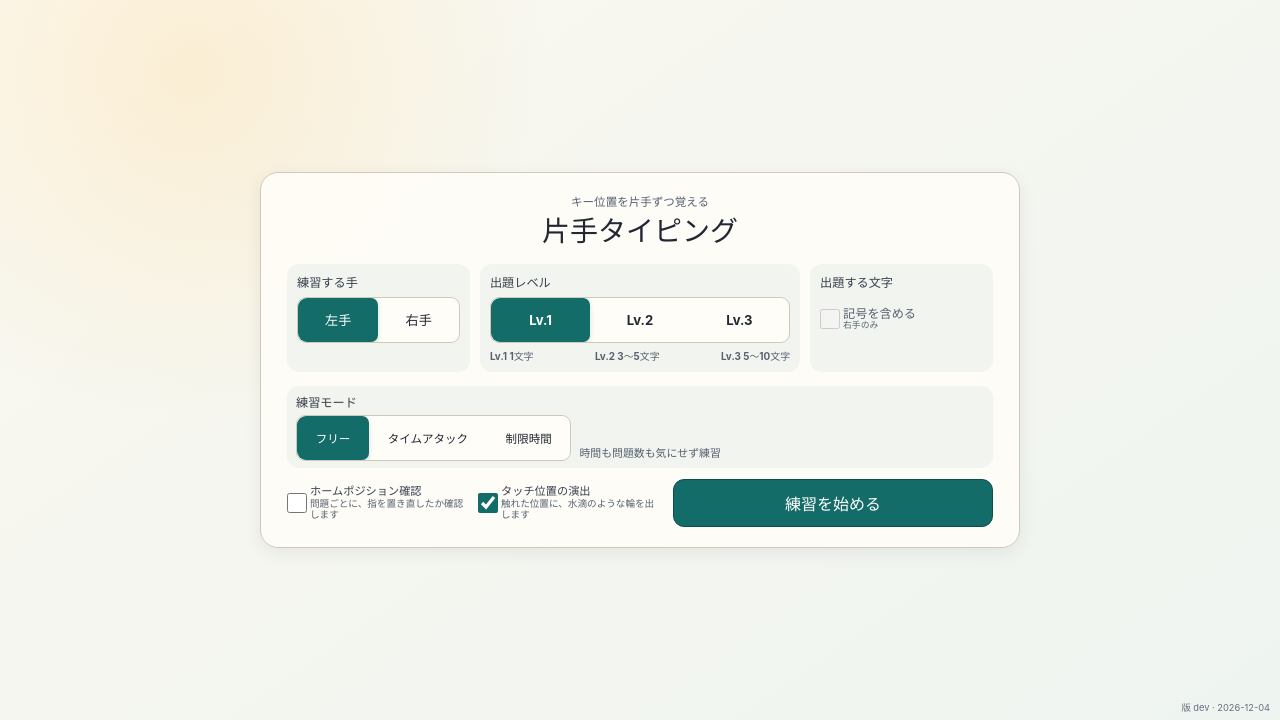
Test: 設定・練習・結果の3画面 › 設定画面へ戻って始め直すと、右上の今回の成績がゼロから始まる
The width and height of the screenshot is (1280, 720).
Step 1. Click the button with test id "start-practice" → (833, 503), box top-left (673, 479), bottom-right (993, 527)
Wait 1000 ms
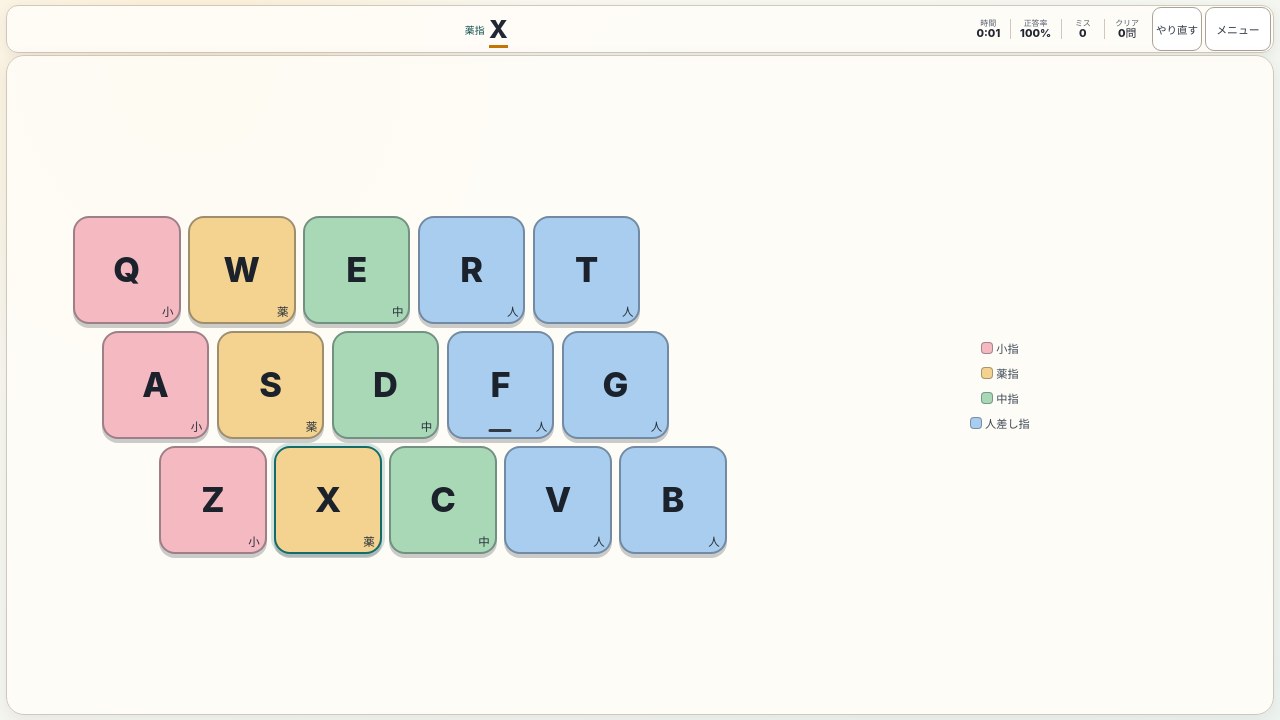
Step 2. Click the button with class "key" showing "q 小" → (127, 270), box top-left (73, 216), bottom-right (180, 324)
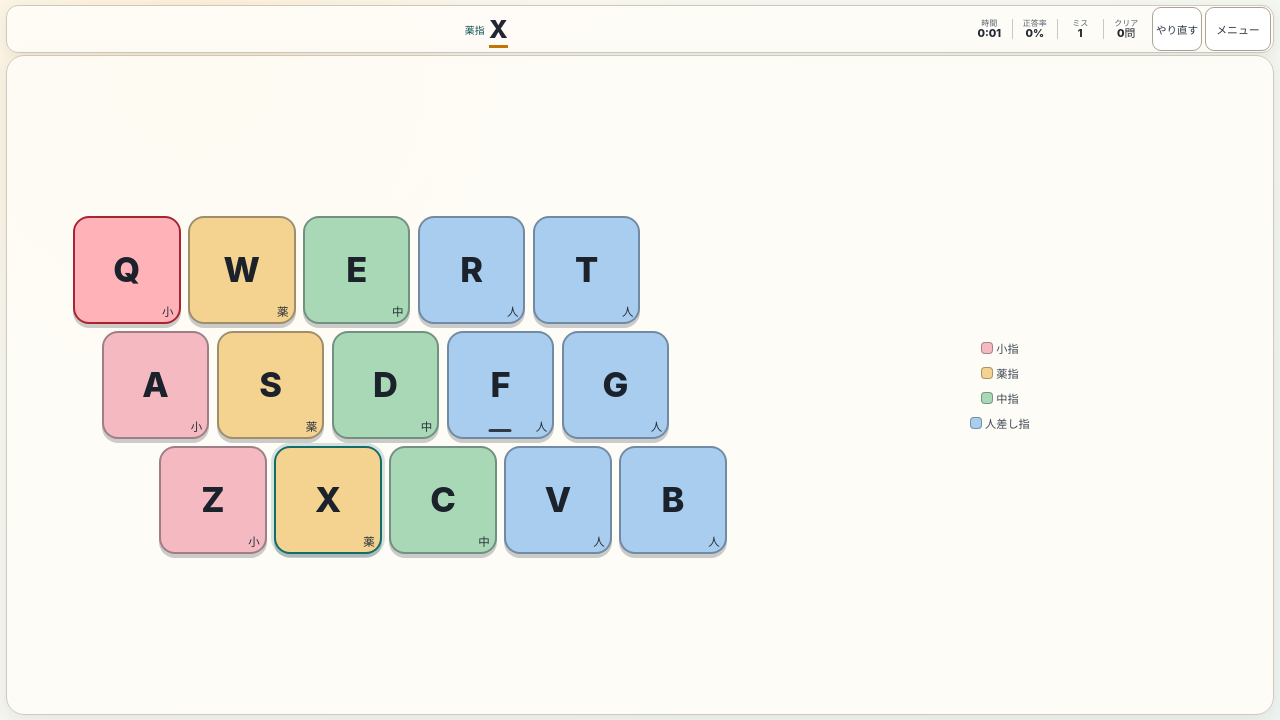
Step 3. Click the button with test id "menu-button" → (1238, 29), box top-left (1205, 7), bottom-right (1271, 51)
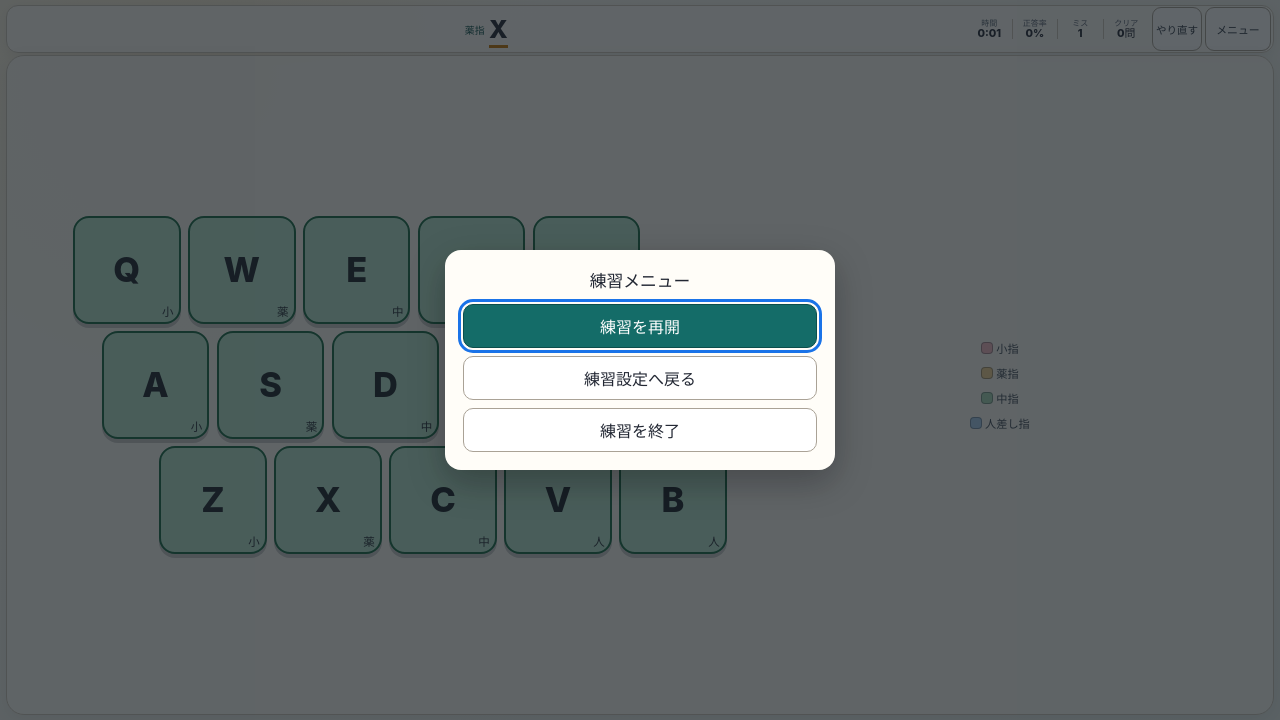
Step 4. Click the button with test id "menu-to-settings" → (640, 378), box top-left (463, 356), bottom-right (817, 400)
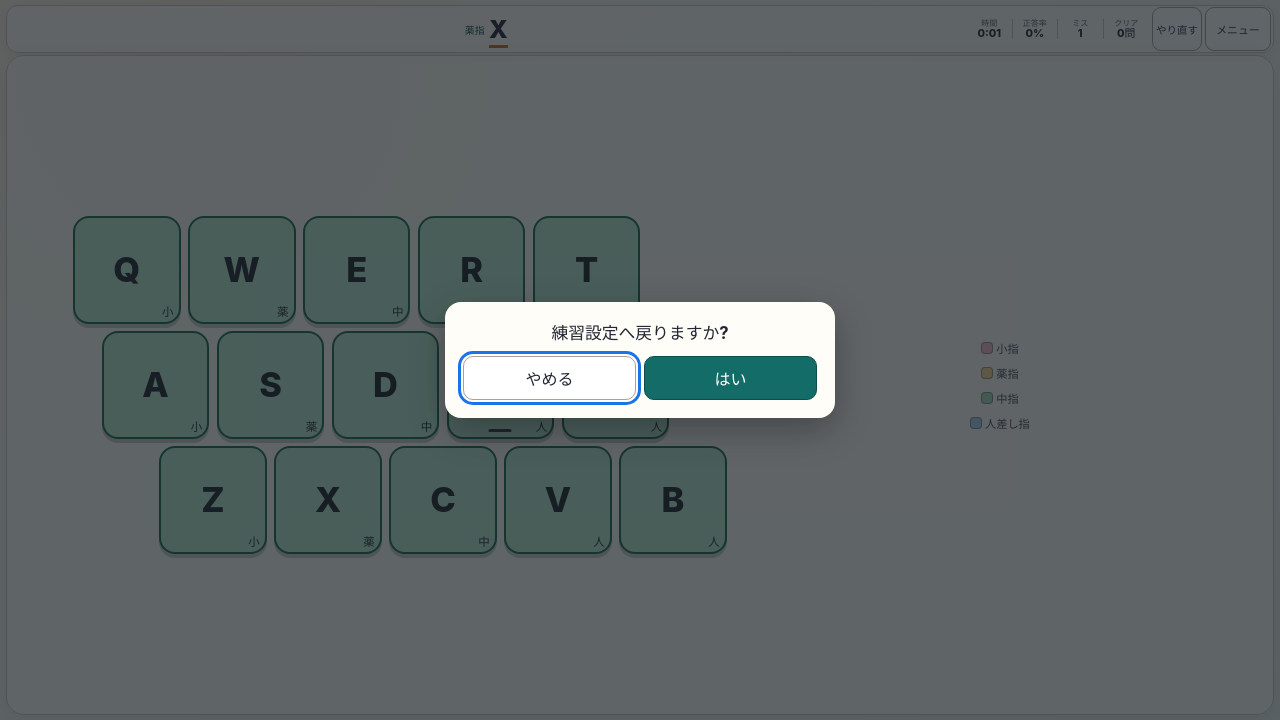
Step 5. Click the button with test id "confirm-yes" → (730, 378), box top-left (644, 356), bottom-right (817, 400)
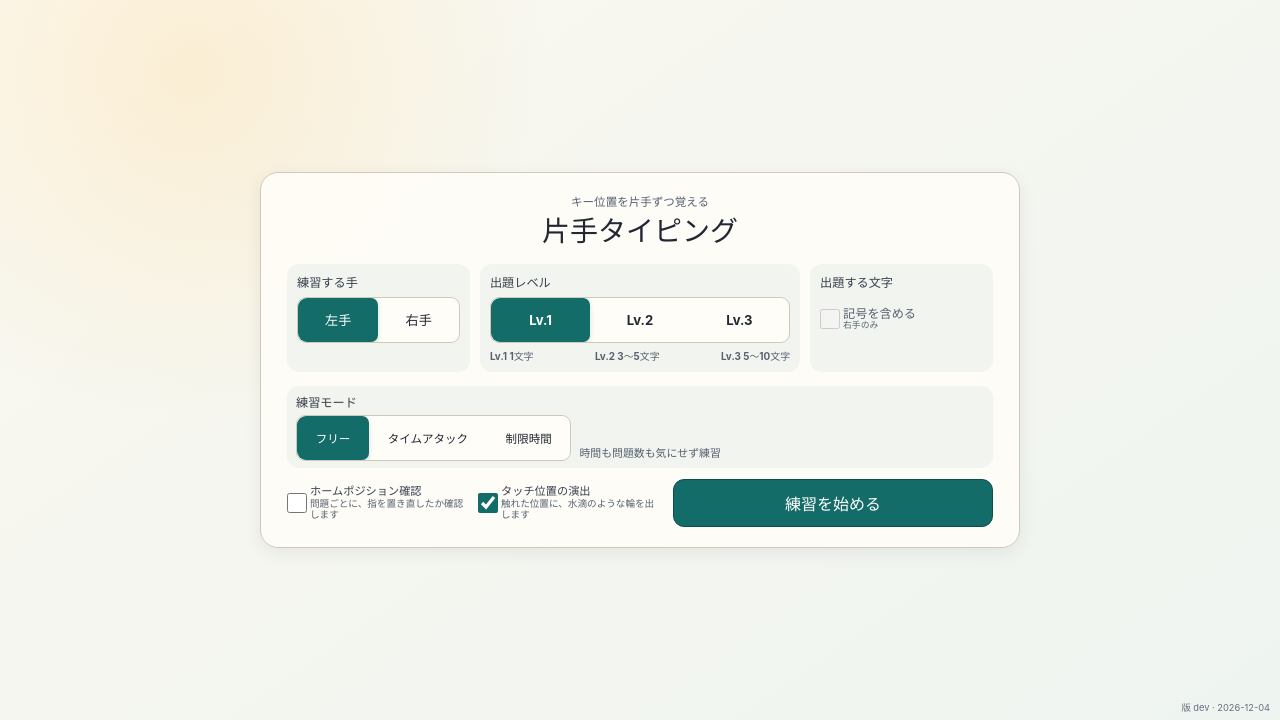
Step 6. Click the button with test id "start-practice" → (833, 503), box top-left (673, 479), bottom-right (993, 527)
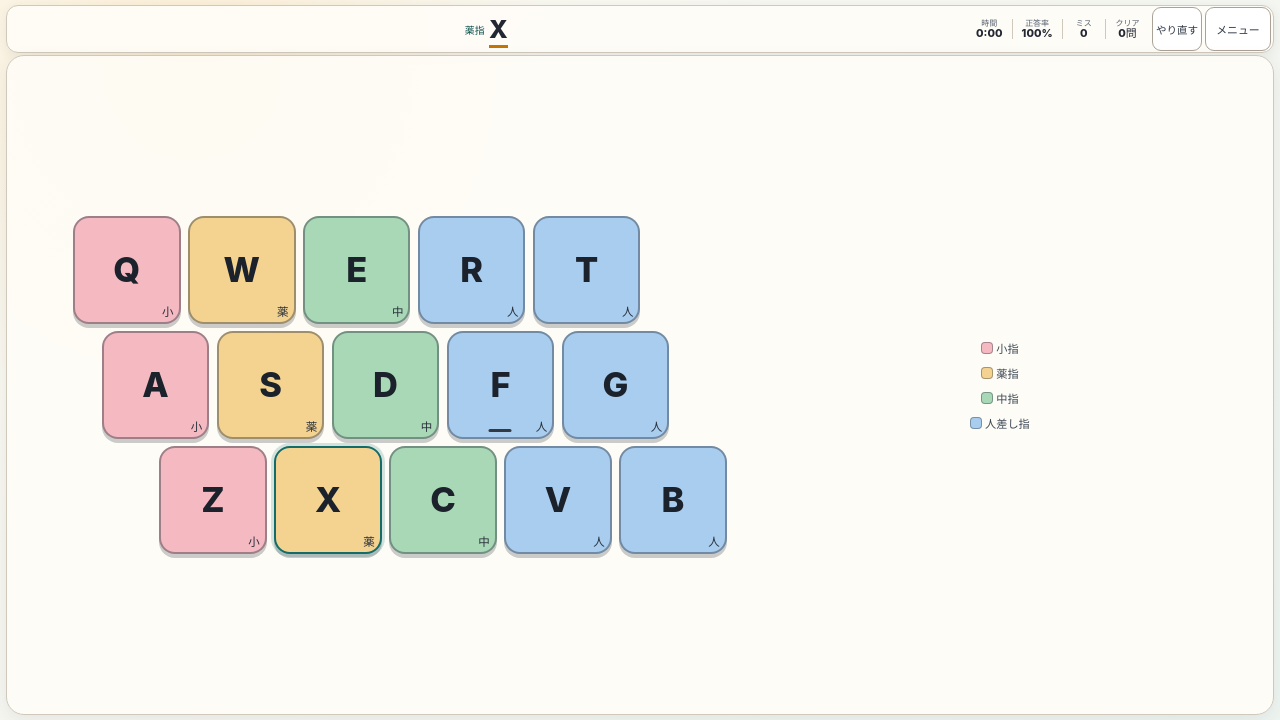
Expected: the text with test id "completed" reads "0問", top-left (1118, 26), bottom-right (1137, 40)
Expected: the text with test id "mistakes" reads "0", top-left (1080, 26), bottom-right (1088, 40)
Expected: the text with test id "accuracy" reads "100%", top-left (1022, 26), bottom-right (1053, 40)
